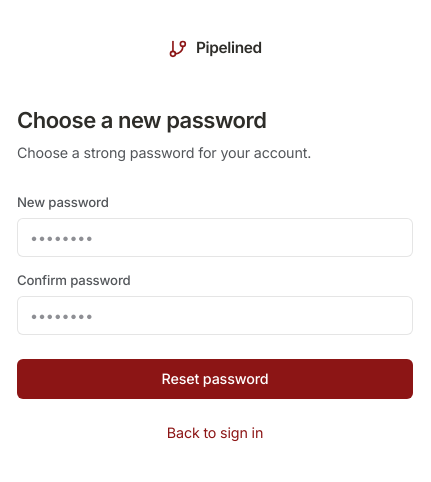
Scenario: ResetPassword › should show error when reset cookie is missing
This screenshot has width=431, height=482.
Type "NewPass123!" into the password field labelled "New password" at point(215, 238), box 17,218 -> 413,257
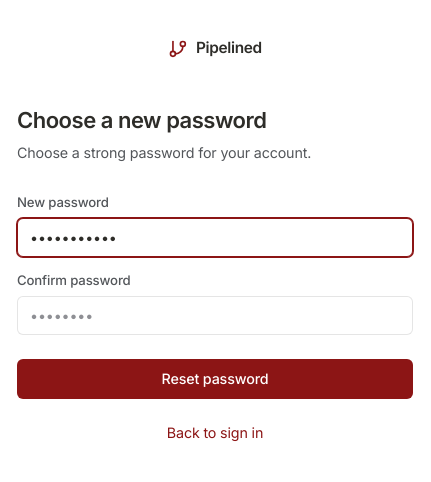
Type "NewPass123!" into the password field labelled "Confirm password" at point(215, 316), box 17,296 -> 413,335
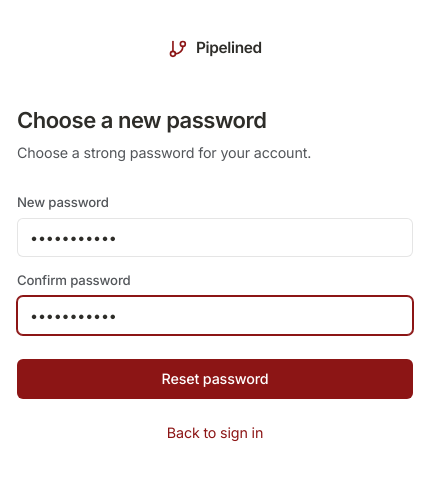
Click the button "Reset password" at point(215, 379), box 17,359 -> 413,399
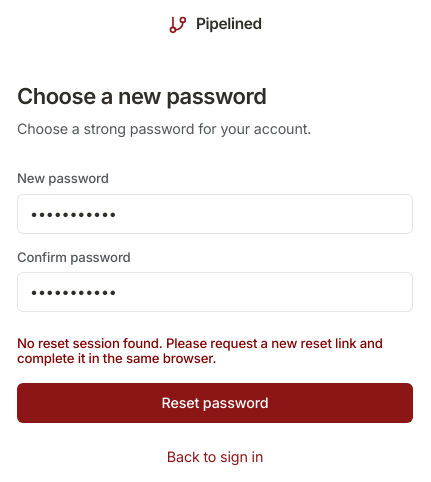
Check: the message shows "No reset session found", box 17,334 -> 383,366
